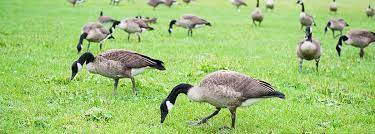goose: (156, 71, 288, 130), (69, 50, 167, 95), (295, 26, 323, 76)
